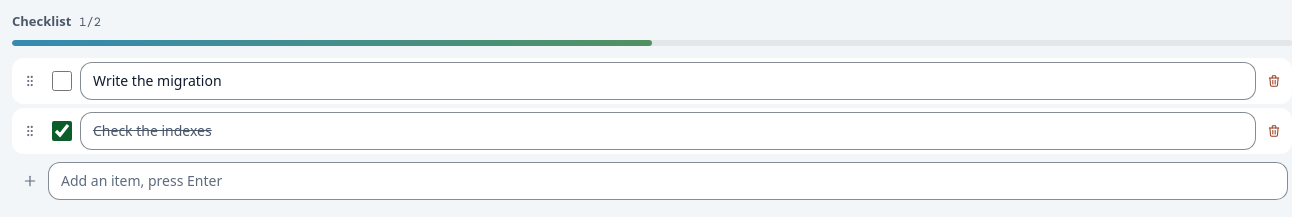
Test: Checklist › removes an item whose text was emptied once the field is left, and keeps one that still has text
Click the field named "Checklist item 1" at (668, 80), box [80, 62, 1256, 100]
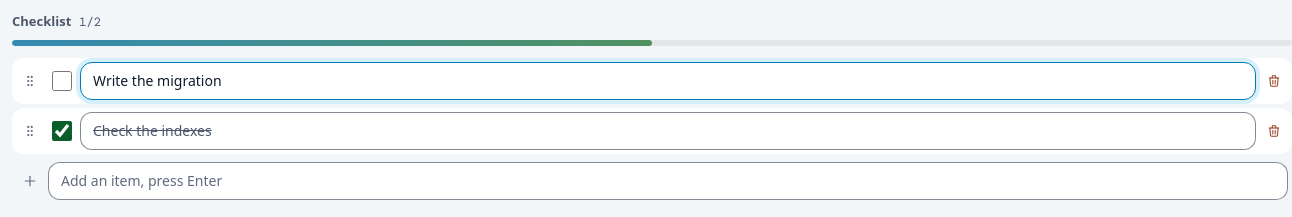
Press Tab
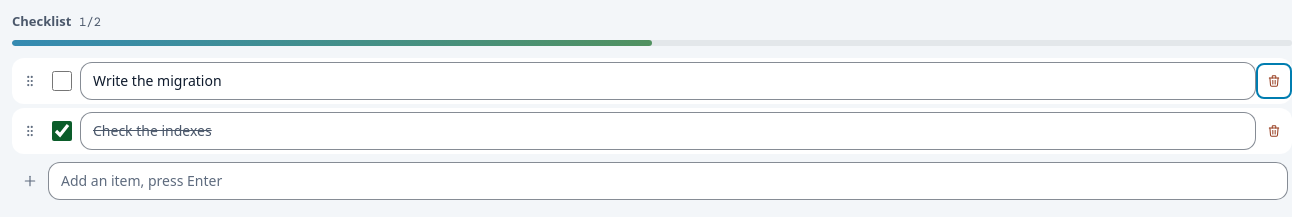
Clear the field named "Checklist item 2" at (668, 130), box [80, 112, 1256, 150]
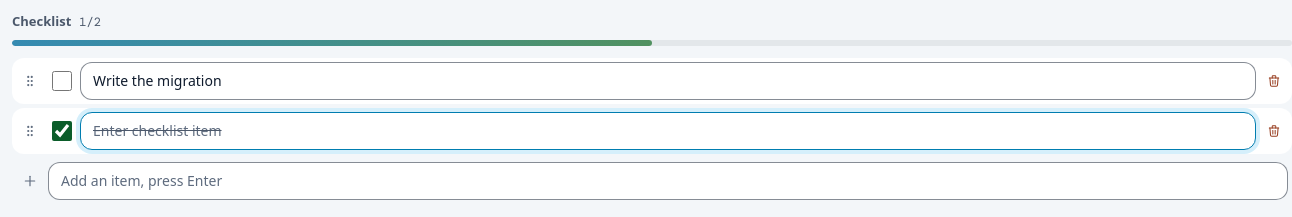
Press Tab
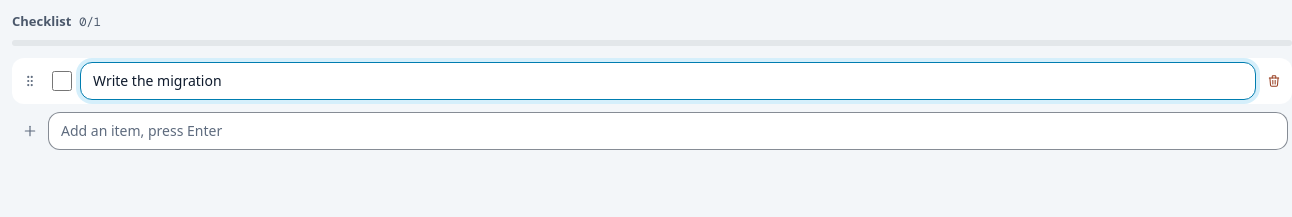
Check: the field named "Checklist item 1" holds "Write the migration", box [80, 62, 1256, 100]
Check: the number of fields named "checklist item" is 1, box [80, 62, 1256, 100]
